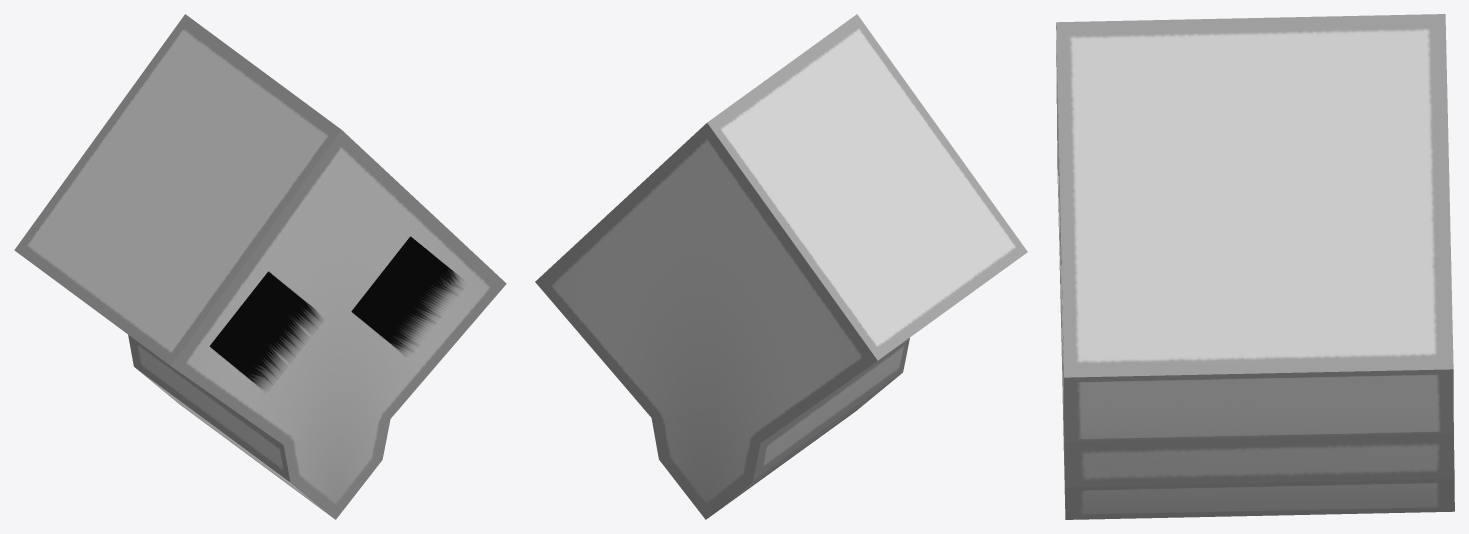
Rendered from Cabeca.obj.
3 views of the same model, side by side, from view 1: azimuth 30°, elevation 25°; view 2: azimuth 150°, elevation 25°; view 3: azimuth 270°, elevation 25° (orthographic). The views are drawn at different scales.
Visible parts, largest first — view 1: Corpo.001_Cube.003; view 2: Corpo.001_Cube.003; view 3: Corpo.001_Cube.003.
Boxes of the visible parts, x1,y1,x2,y2 form: Corpo.001_Cube.003: [14, 14, 506, 519]; Corpo.001_Cube.003: [535, 14, 1027, 519]; Corpo.001_Cube.003: [1056, 14, 1454, 519].
Size of the model in its own units: 1.02 by 1.13 by 0.8051.
